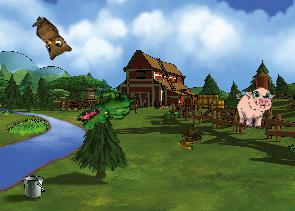crocodile: (74, 75, 141, 143)
owl: (22, 14, 75, 65)
pig: (233, 85, 275, 131)
